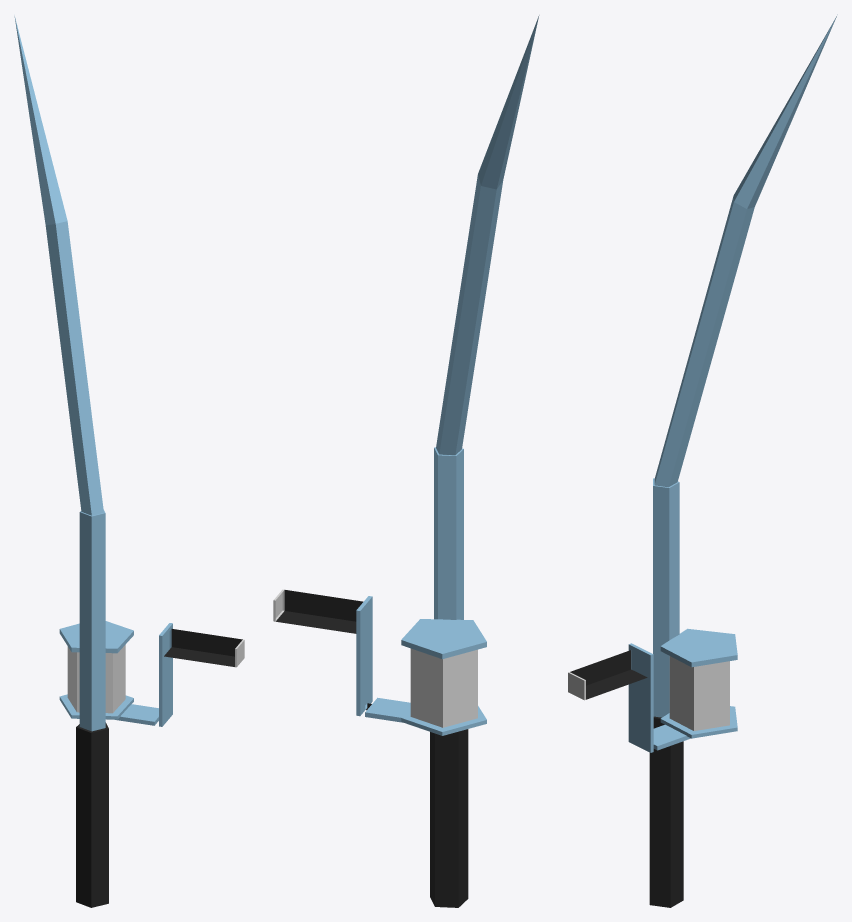
Rendered from VaraDePescaria.fbx.
3 views of the same model, side by side, from view 1: azimuth 30°, elevation 25°; view 2: azimuth 210°, elevation 25°; view 3: azimuth 270°, elevation 25° (orthographic). The views are drawn at different scales.
Visible parts, largest first — view 1: Cylinder, Cube; view 2: Cylinder, Cube; view 3: Cylinder, Cube.
Part boxes in pixels (bbox=[...]): Cylinder: bbox=[14, 16, 133, 907]; Cube: bbox=[115, 623, 244, 726]; Cylinder: bbox=[401, 15, 539, 907]; Cube: bbox=[273, 589, 410, 722]; Cylinder: bbox=[649, 14, 837, 907]; Cube: bbox=[568, 643, 690, 752].
Bounding box in the file's own units: 154 × 946 × 261.
